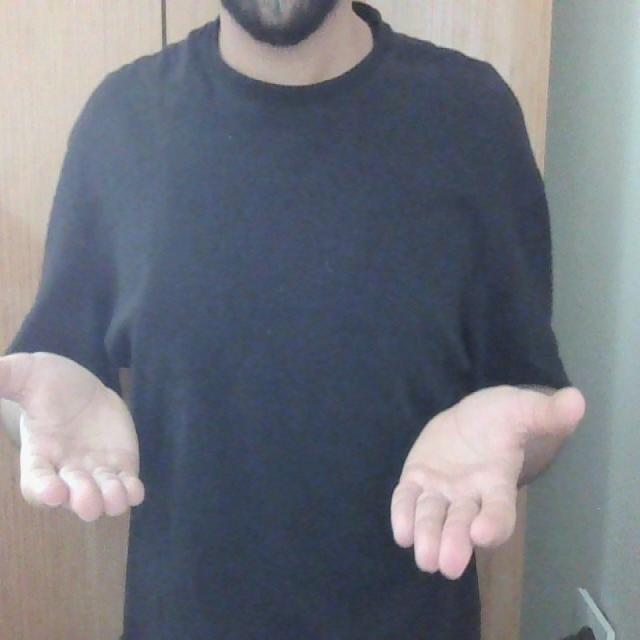Evet: (0, 347, 590, 584)
